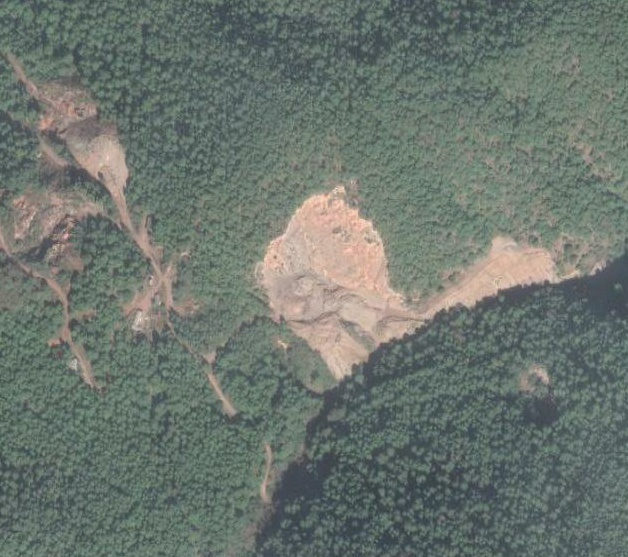slope: (257, 177, 585, 382), (37, 76, 131, 211), (3, 187, 100, 299)
